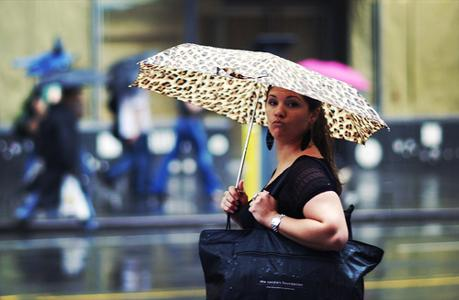person: (222, 85, 349, 250)
